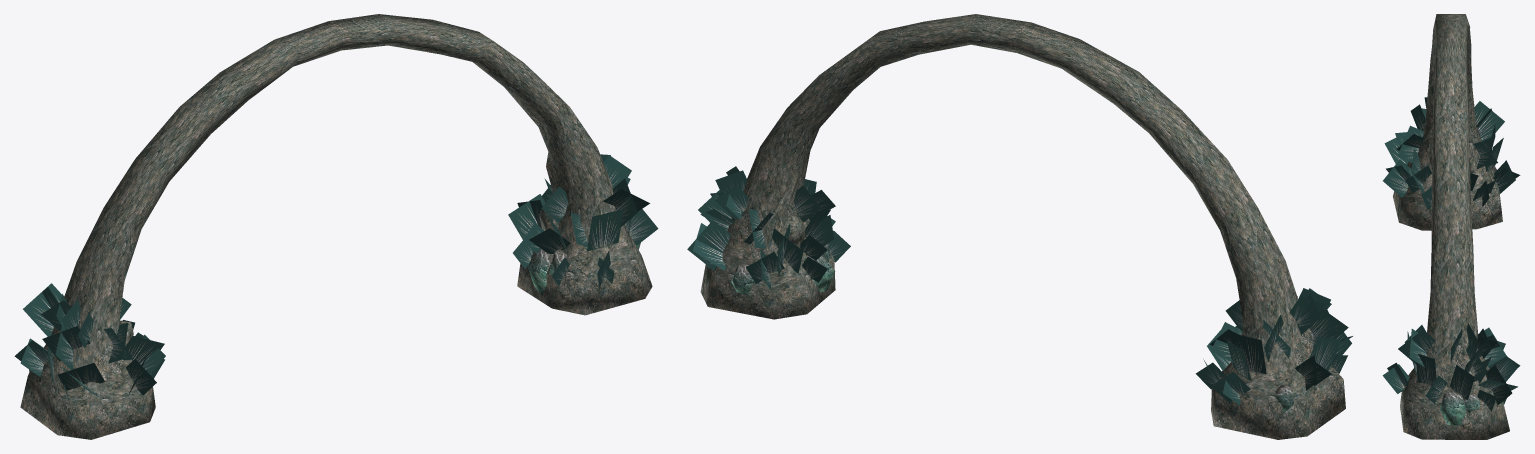
The model's file is rock_crystl_arch_med_l2.fbx.
3 renders of one model, left to right at view 1: azimuth 30°, elevation 25°; view 2: azimuth 150°, elevation 25°; view 3: azimuth 270°, elevation 25°, orthographic. The views are drawn at different scales.
Visible parts, largest first — view 1: mesh_node; view 2: mesh_node; view 3: mesh_node.
Boxes of the visible parts, x1,y1,x2,y2 form: mesh_node: [14, 14, 658, 439]; mesh_node: [687, 14, 1352, 439]; mesh_node: [1382, 14, 1520, 439].
Size of the model in its own units: 93.38 by 46.16 by 20.95.
